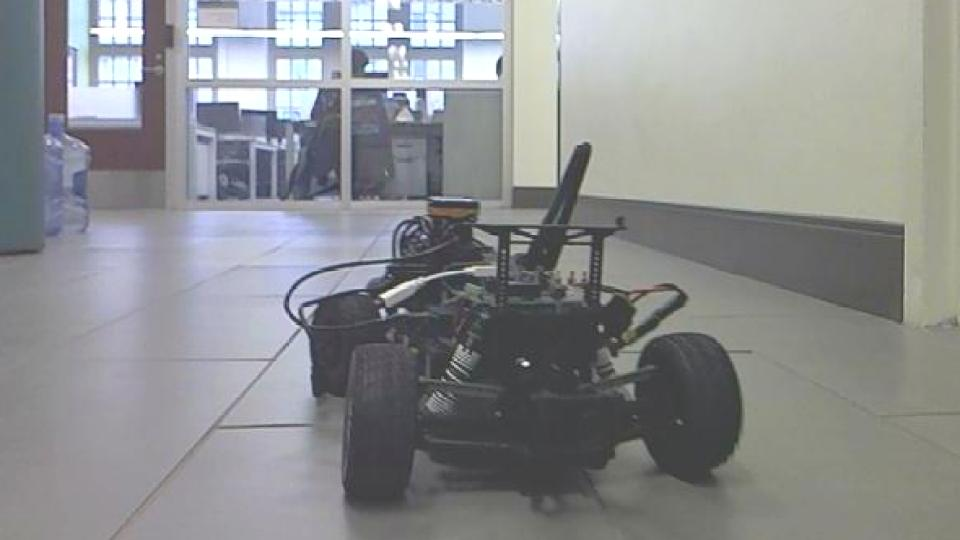car: (280, 139, 747, 514)
